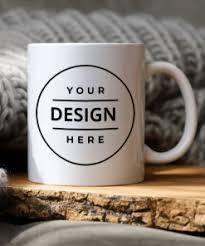Mug: (12, 36, 201, 214)
